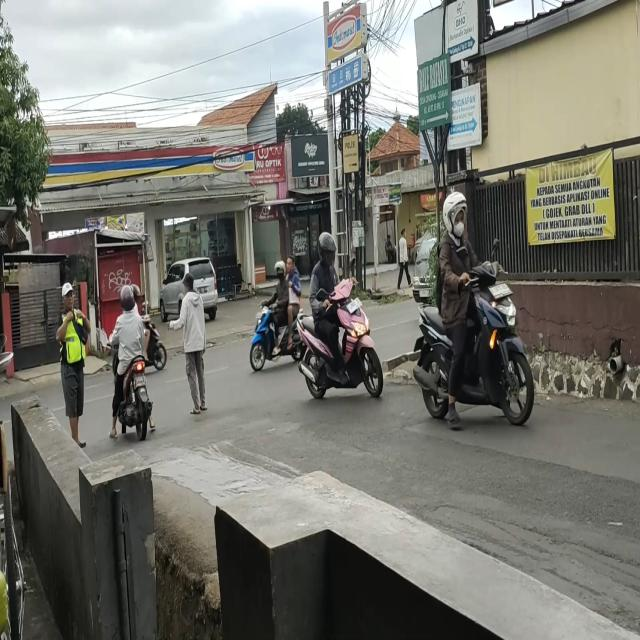helmet: (443, 194, 466, 235), (320, 234, 334, 264), (120, 286, 135, 314), (275, 262, 284, 283)
no-helmet: (285, 255, 296, 275)
